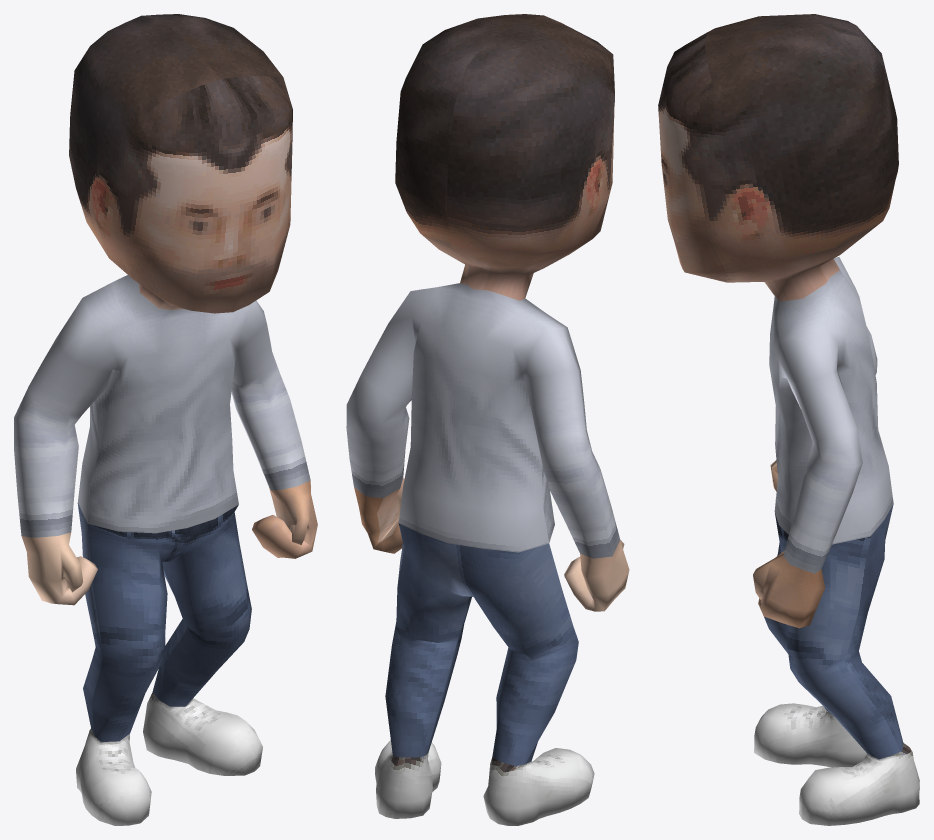
Rendered from person.glb.
3 renders of one model, left to right at view 1: azimuth 30°, elevation 25°; view 2: azimuth 150°, elevation 25°; view 3: azimuth 270°, elevation 25°, orthographic.
Parts seen in each view (by area): view 1: _MeshInstance3D_5; view 2: _MeshInstance3D_5; view 3: _MeshInstance3D_5.
Part boxes in pixels (x1,y1,x2,y2): _MeshInstance3D_5: (14, 14, 317, 825); _MeshInstance3D_5: (346, 14, 629, 825); _MeshInstance3D_5: (658, 14, 919, 825).
Size of the model in its own units: 0.6694 by 1.8 by 0.5674.
1 material, 1 textured.
